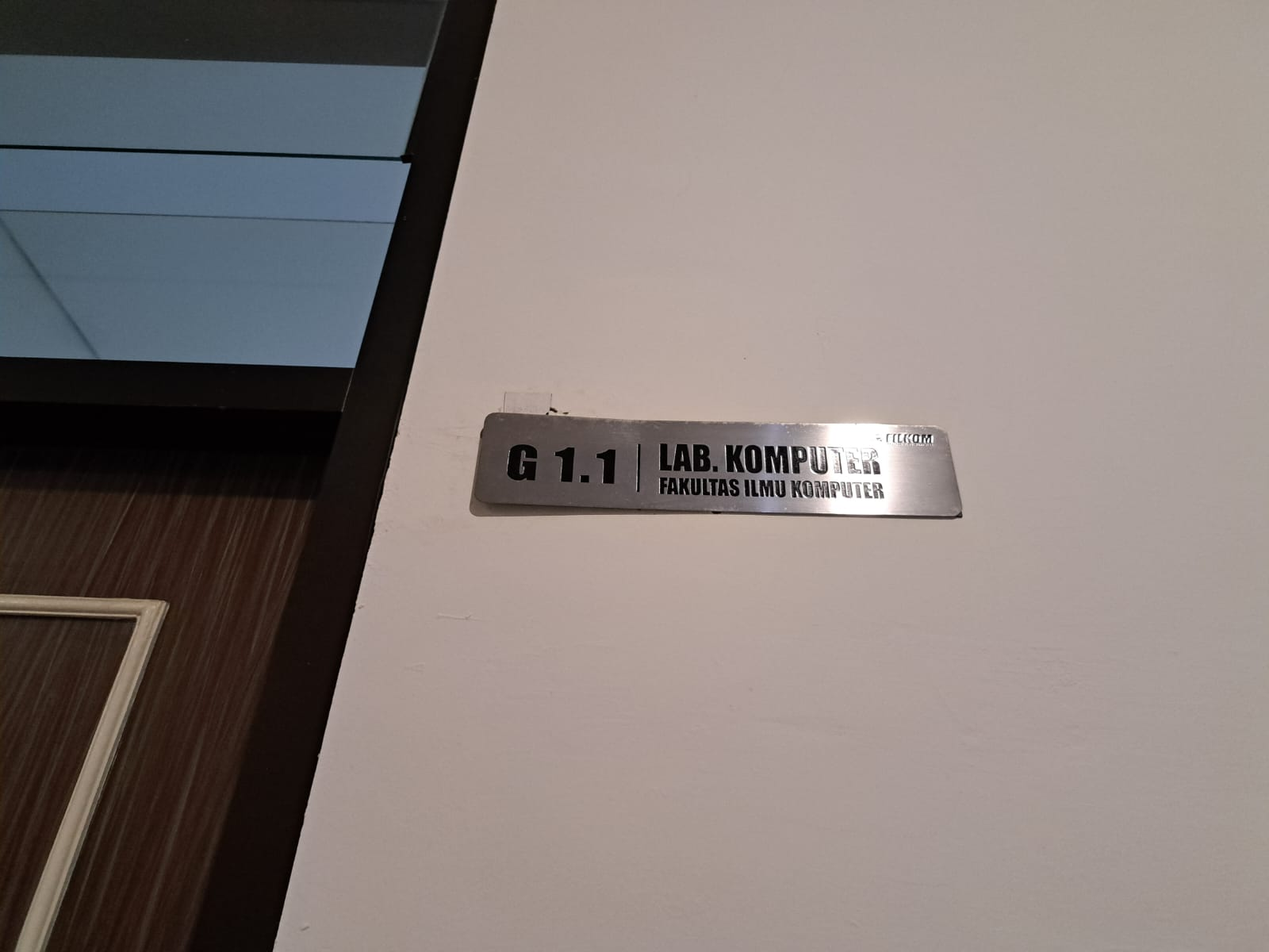ruangan: (461, 399, 975, 530)
